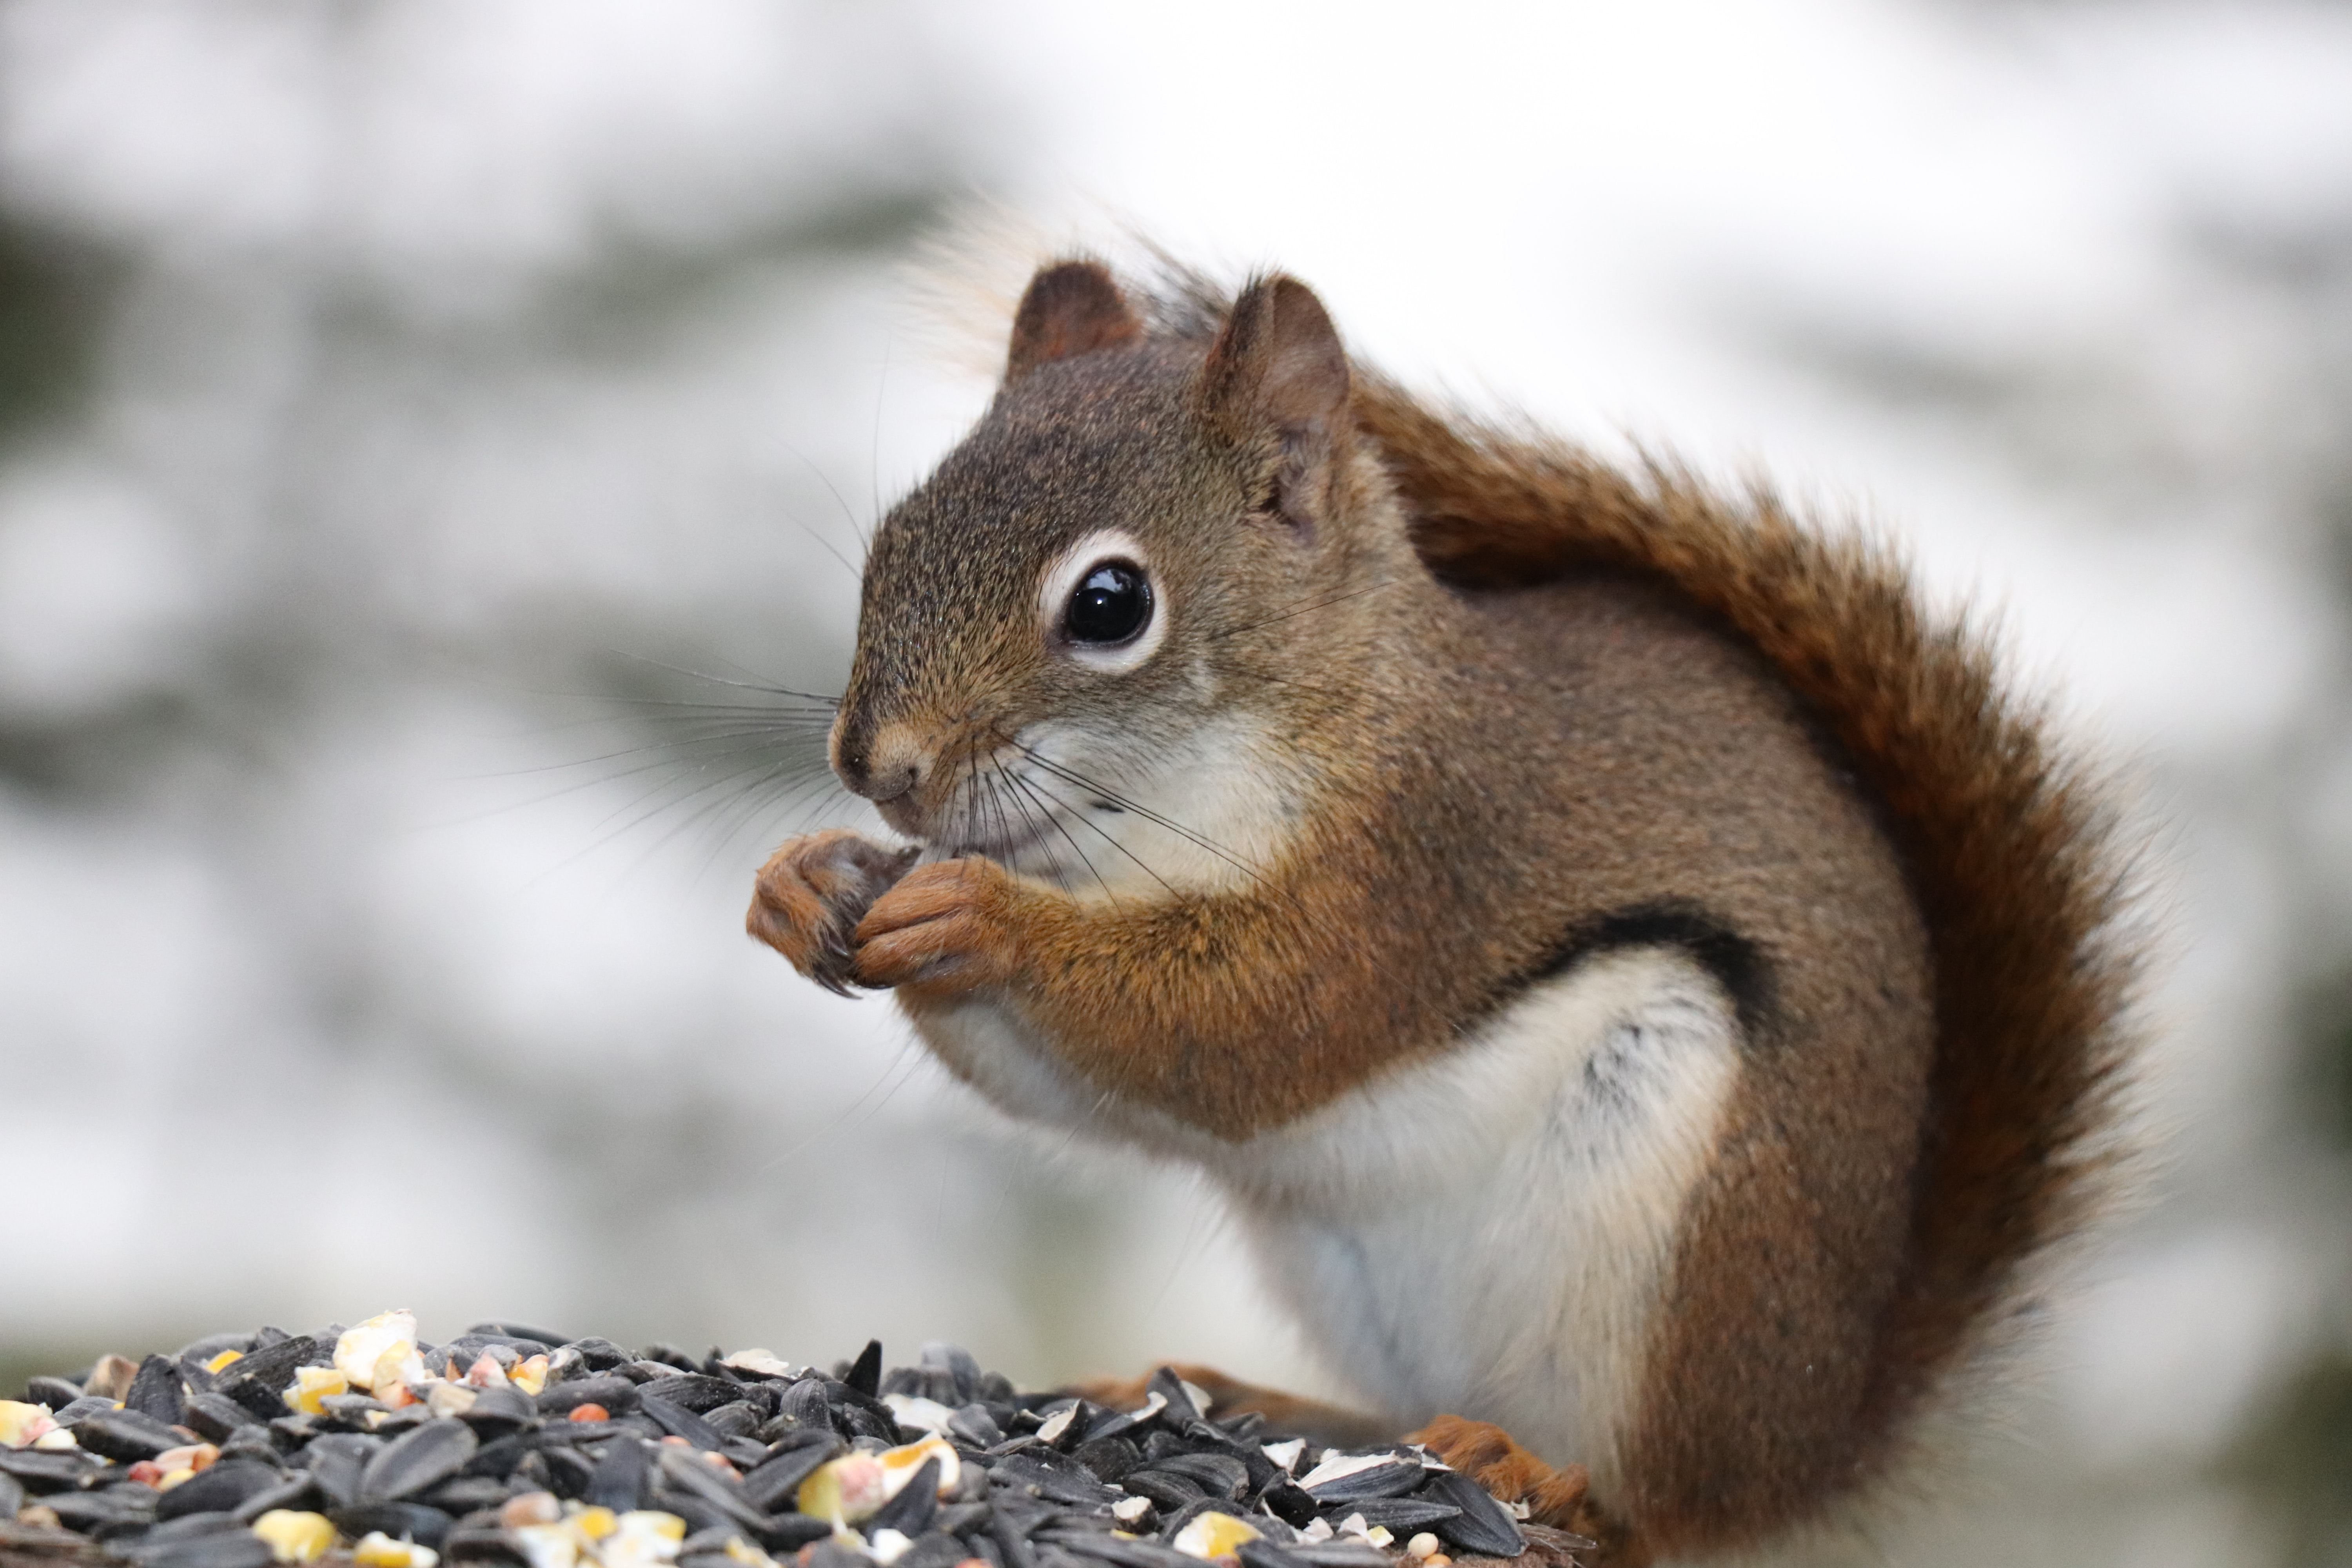squirrel: (737, 236, 2110, 1535)
